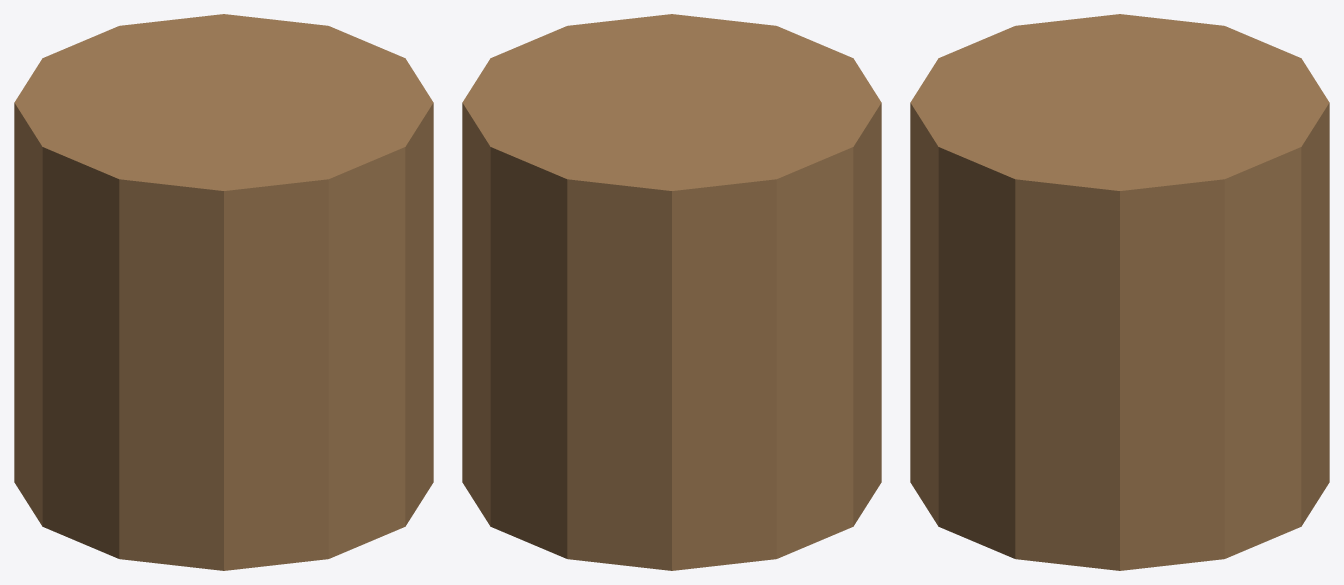
The model's file is set_twine_hank.glb.
3 views of the same model, side by side, from view 1: azimuth 30°, elevation 25°; view 2: azimuth 150°, elevation 25°; view 3: azimuth 270°, elevation 25° (orthographic).
Visible parts, largest first — view 1: set_twine_hank; view 2: set_twine_hank; view 3: set_twine_hank.
Part boxes in pixels (left/top/right/bottom): set_twine_hank: left=14, top=14, right=433, bottom=570; set_twine_hank: left=462, top=14, right=881, bottom=570; set_twine_hank: left=910, top=14, right=1329, bottom=570.
Bounding box in the file's own units: 0.12 × 0.12 × 0.12.
